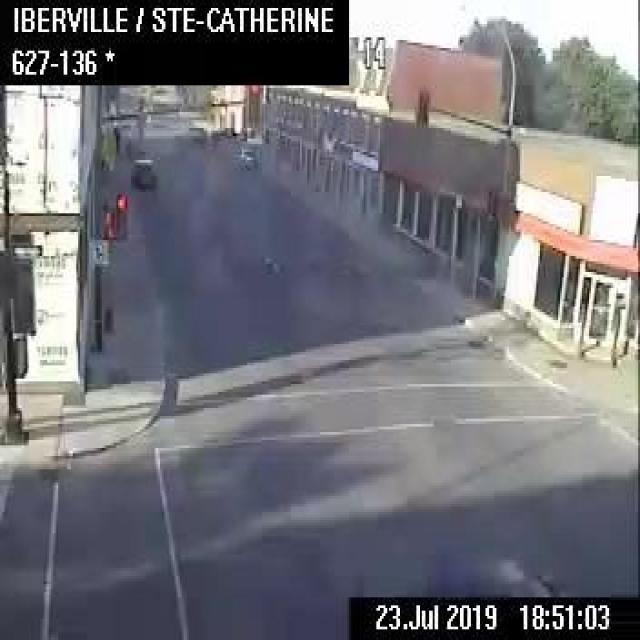vehicle: (129, 156, 156, 187), (230, 144, 254, 169)
